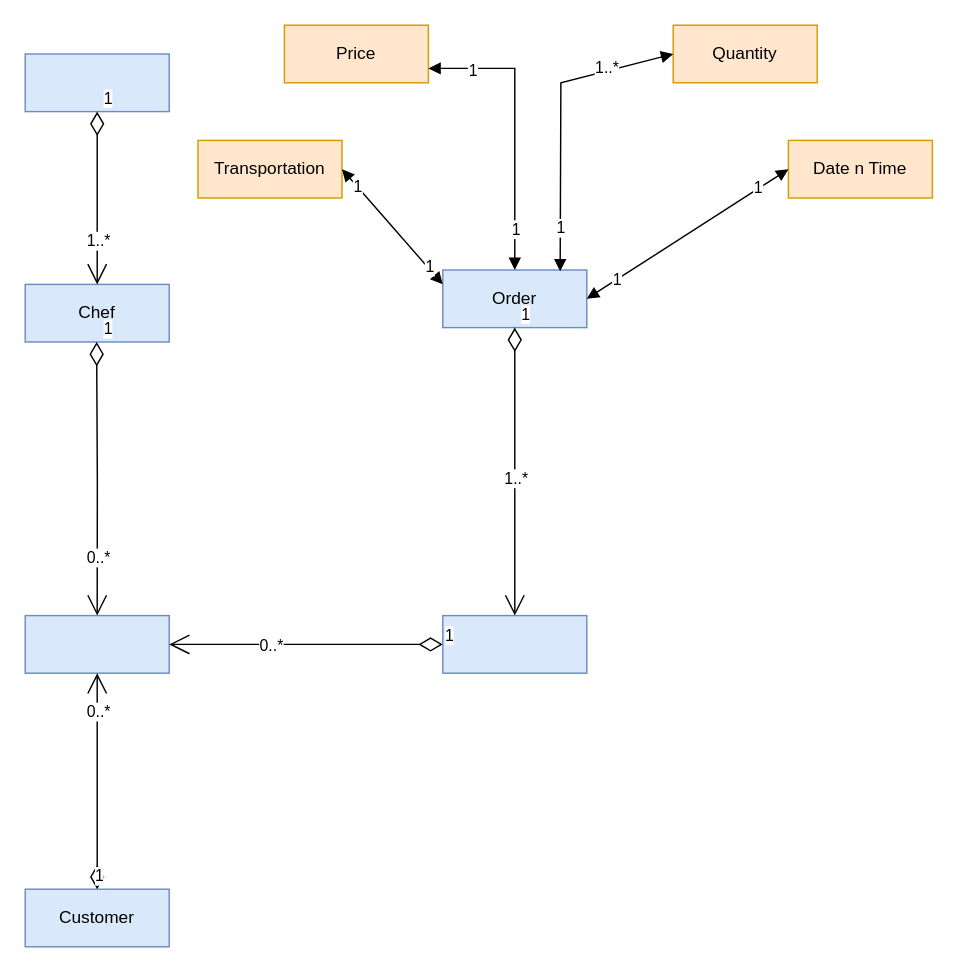
The diagram is 958 pixels wide and 972 high, and some of its shapes have lost their labels. Here are the shapes that lost their labels. From the top down, the box of each, then its label:
(24, 53, 169, 112): Location
(24, 614, 169, 673): Reviews
(441, 614, 587, 673): Food
